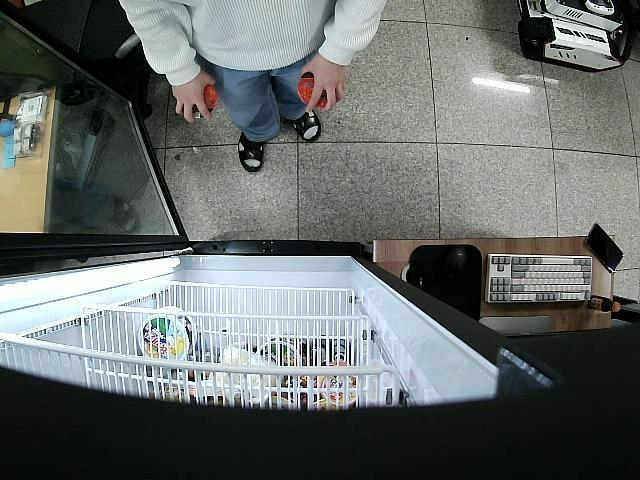02_shinRamen_S: (297, 72, 338, 110), (190, 84, 218, 120)
